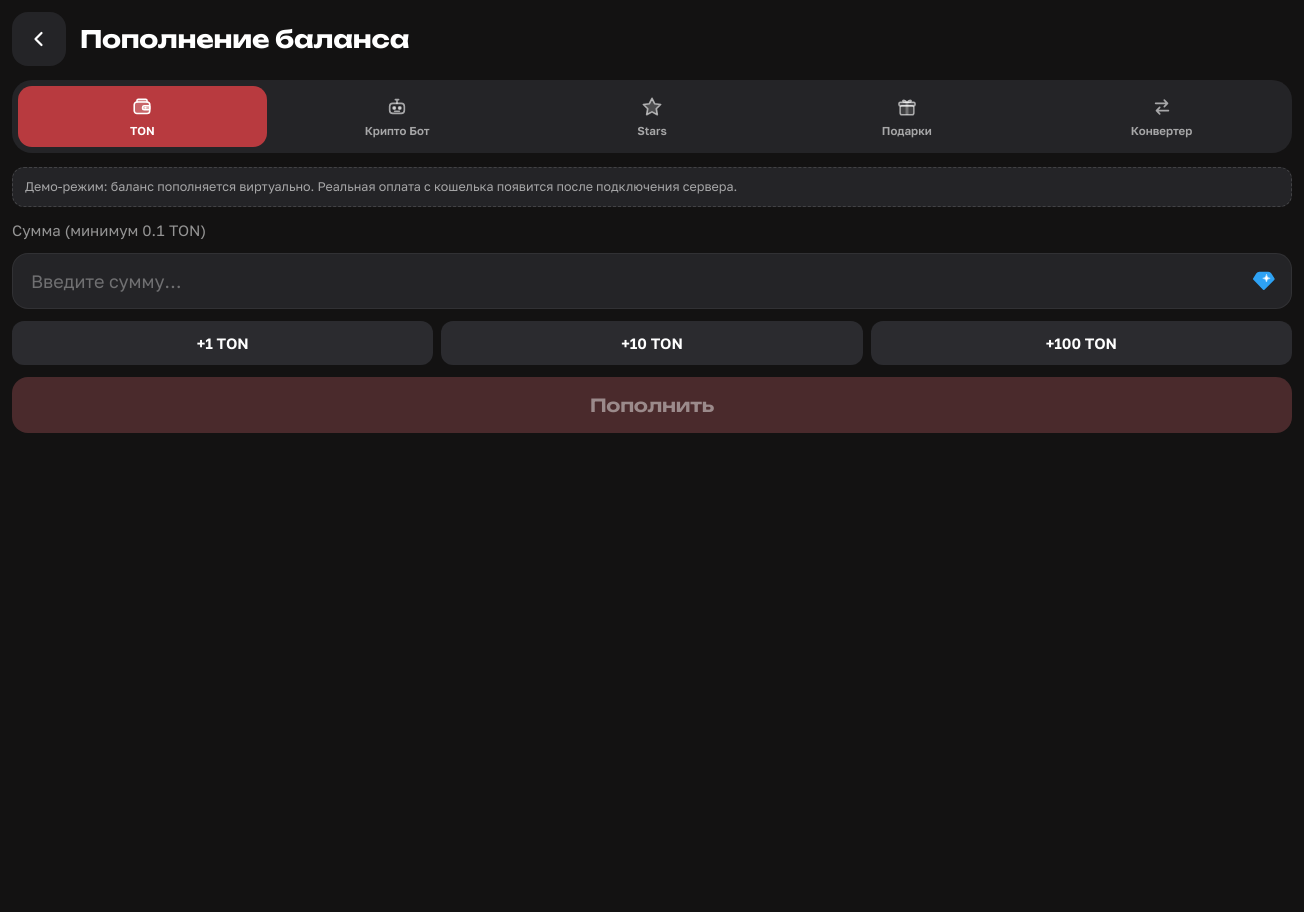
it: DepositScreen (пополнение баланса) › Подарки: шаги раскрываются, приём подарков честно недоступен
Click the tab "Подарки". click: click(907, 116)
box: 782,86 -> 1031,147
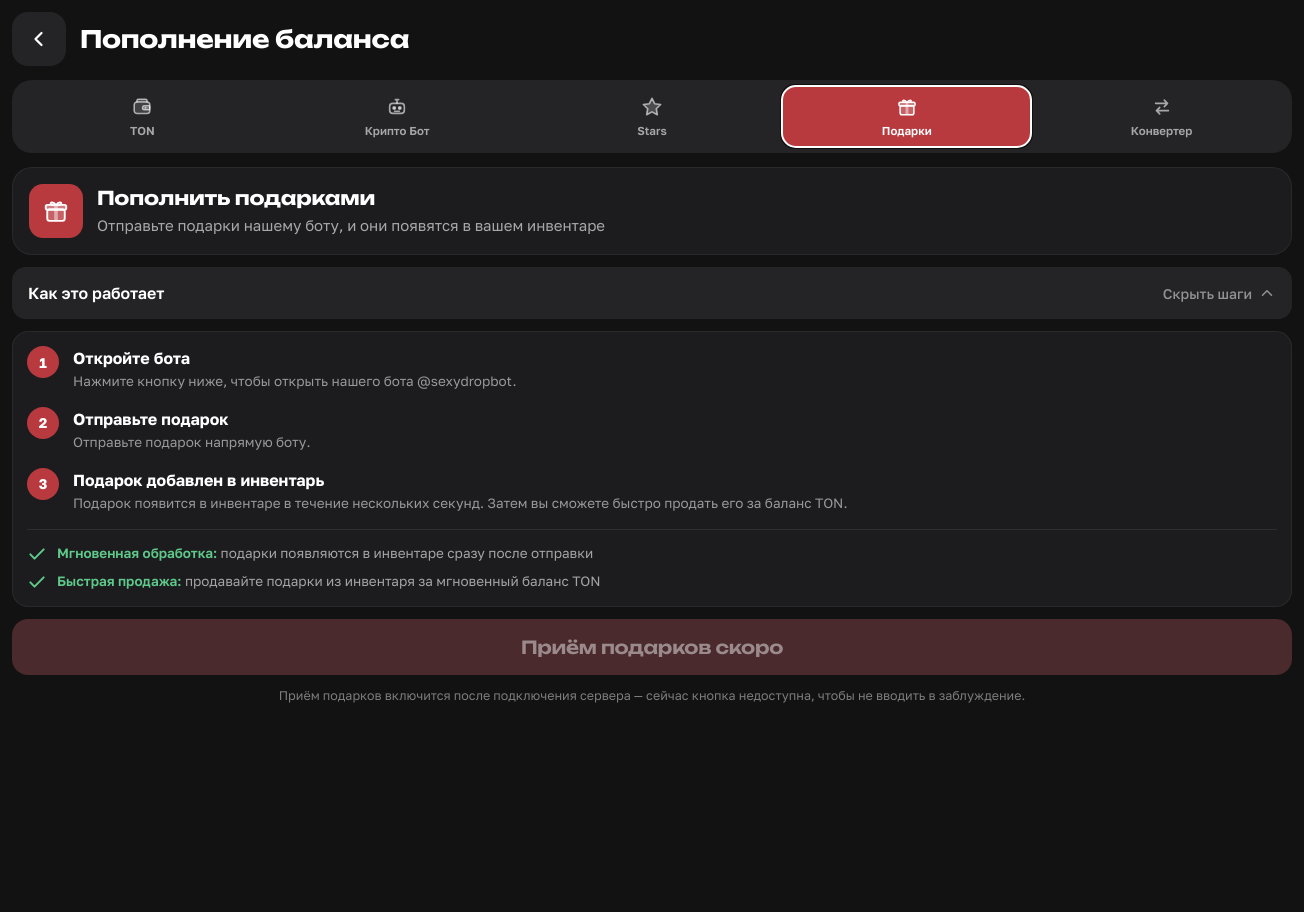
Expected: the button "Приём подарков скоро" is disabled, 12,619 -> 1292,675
Expected: the heading "Пополнить подарками" is shown, 97,186 -> 375,210
Expected: the text "Отправьте подарок" is shown, 73,409 -> 228,429
Click the button "Как это работает Скрыть шаги". click: click(96, 293)
box: 12,267 -> 1292,319
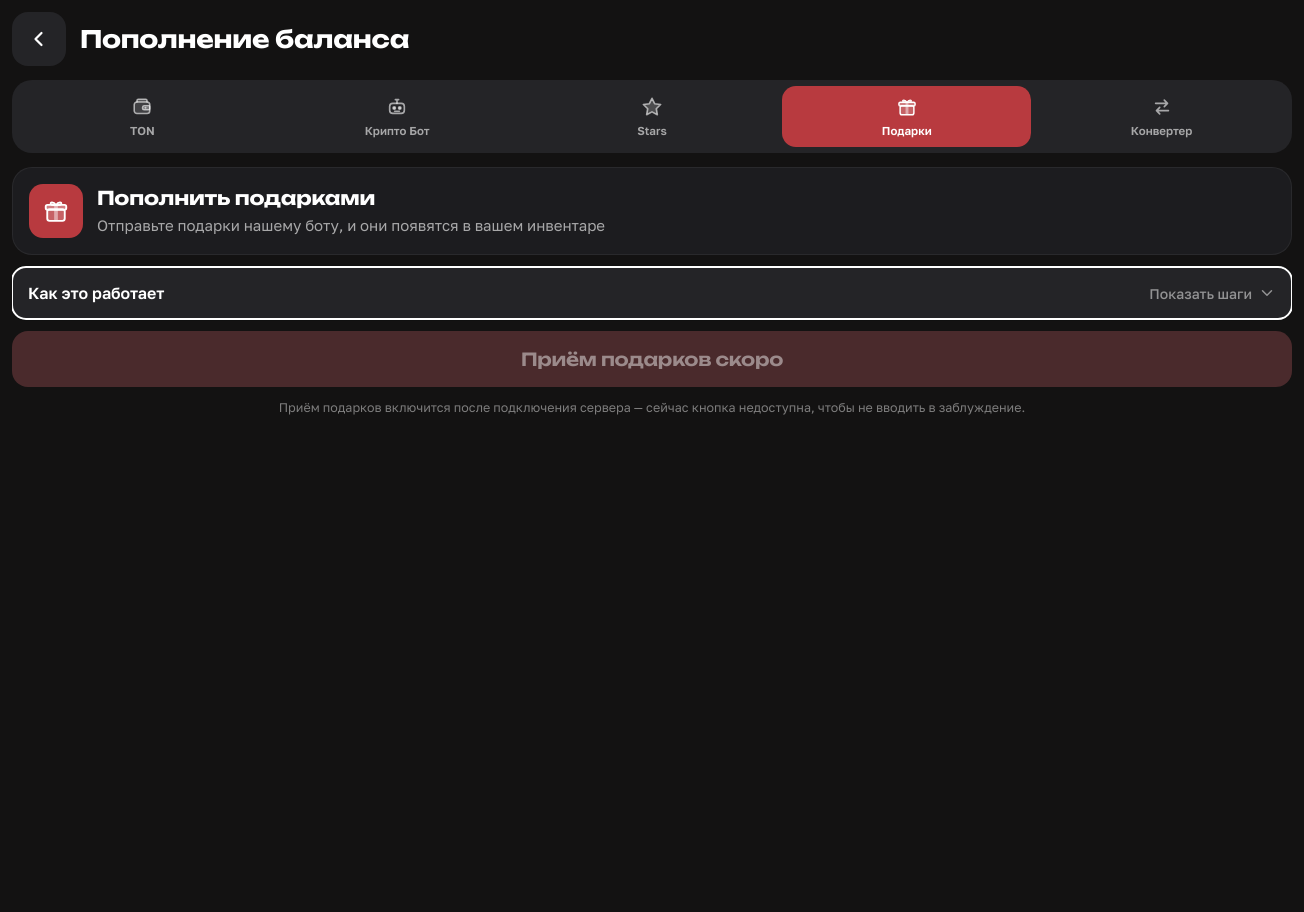
Expected: the text "Отправьте подарок" is gone
